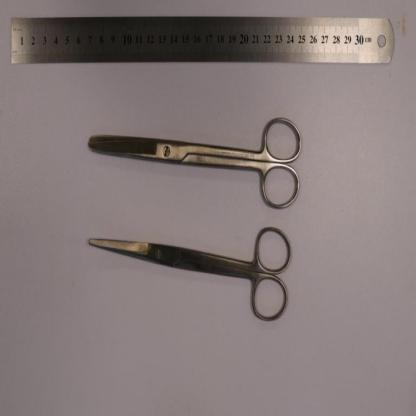Curved Mayo Scissors: (87, 223, 294, 324)
Dressing Scissors: (88, 113, 304, 210)
